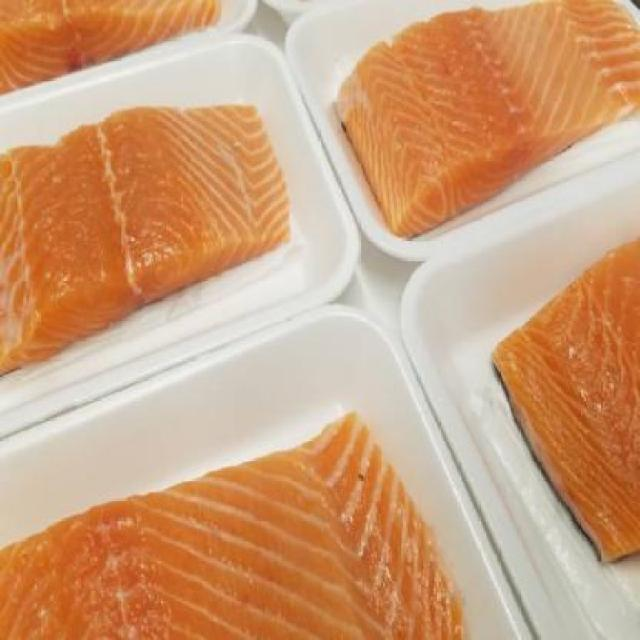salmon: (3, 417, 475, 640), (2, 97, 303, 376), (331, 2, 636, 235), (472, 222, 640, 574), (1, 1, 234, 87)
